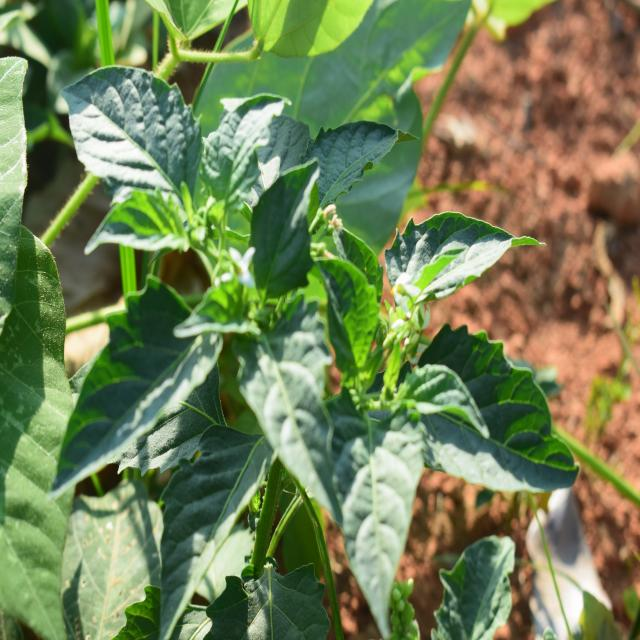Black_nightshade: (73, 70, 359, 490), (288, 181, 530, 543)
